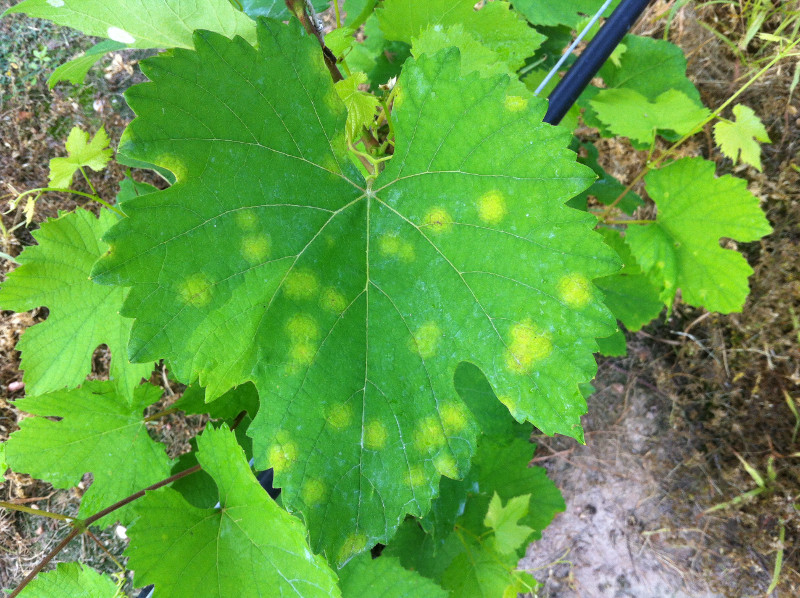downy: (226, 207, 285, 264), (283, 270, 350, 314), (400, 456, 460, 498), (402, 315, 454, 359), (504, 322, 551, 370), (365, 230, 419, 270), (412, 409, 464, 446), (280, 321, 325, 363), (551, 268, 593, 311), (415, 201, 457, 242), (472, 186, 515, 225), (330, 525, 366, 569), (176, 271, 218, 308), (266, 428, 298, 476), (321, 394, 357, 434), (360, 412, 390, 452), (301, 479, 332, 511), (320, 147, 348, 182), (499, 94, 534, 118), (154, 155, 185, 182)
